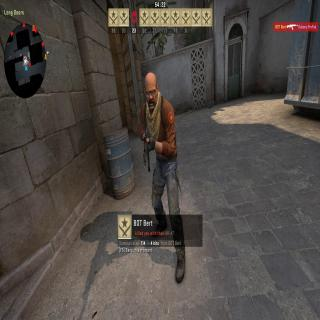T-Body: (138, 72, 186, 284)
T-Head: (144, 74, 158, 108)
